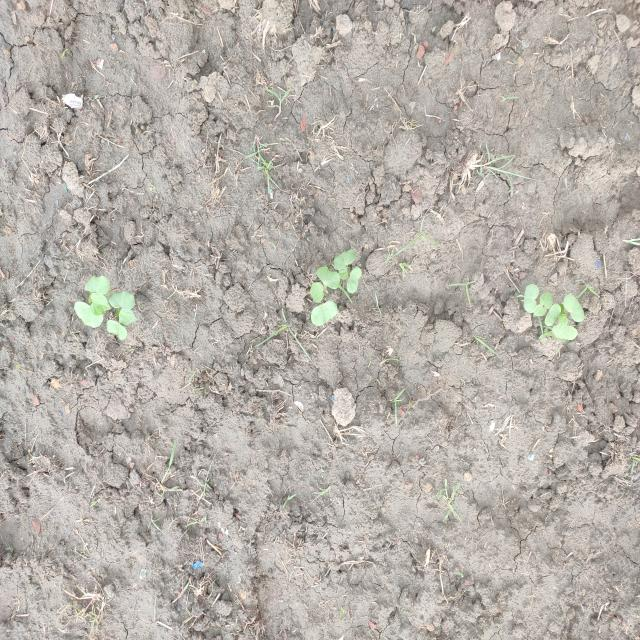seedling_s4: (75, 300, 103, 327), (311, 301, 337, 325), (563, 294, 585, 322), (84, 276, 112, 295), (317, 267, 340, 289), (90, 292, 111, 315), (523, 284, 539, 312), (334, 249, 356, 269), (110, 292, 135, 309), (552, 324, 578, 340), (107, 320, 128, 339), (545, 304, 561, 327), (347, 267, 361, 293), (119, 308, 137, 325), (309, 283, 324, 302), (540, 293, 553, 309), (534, 306, 546, 317), (339, 267, 348, 279)
